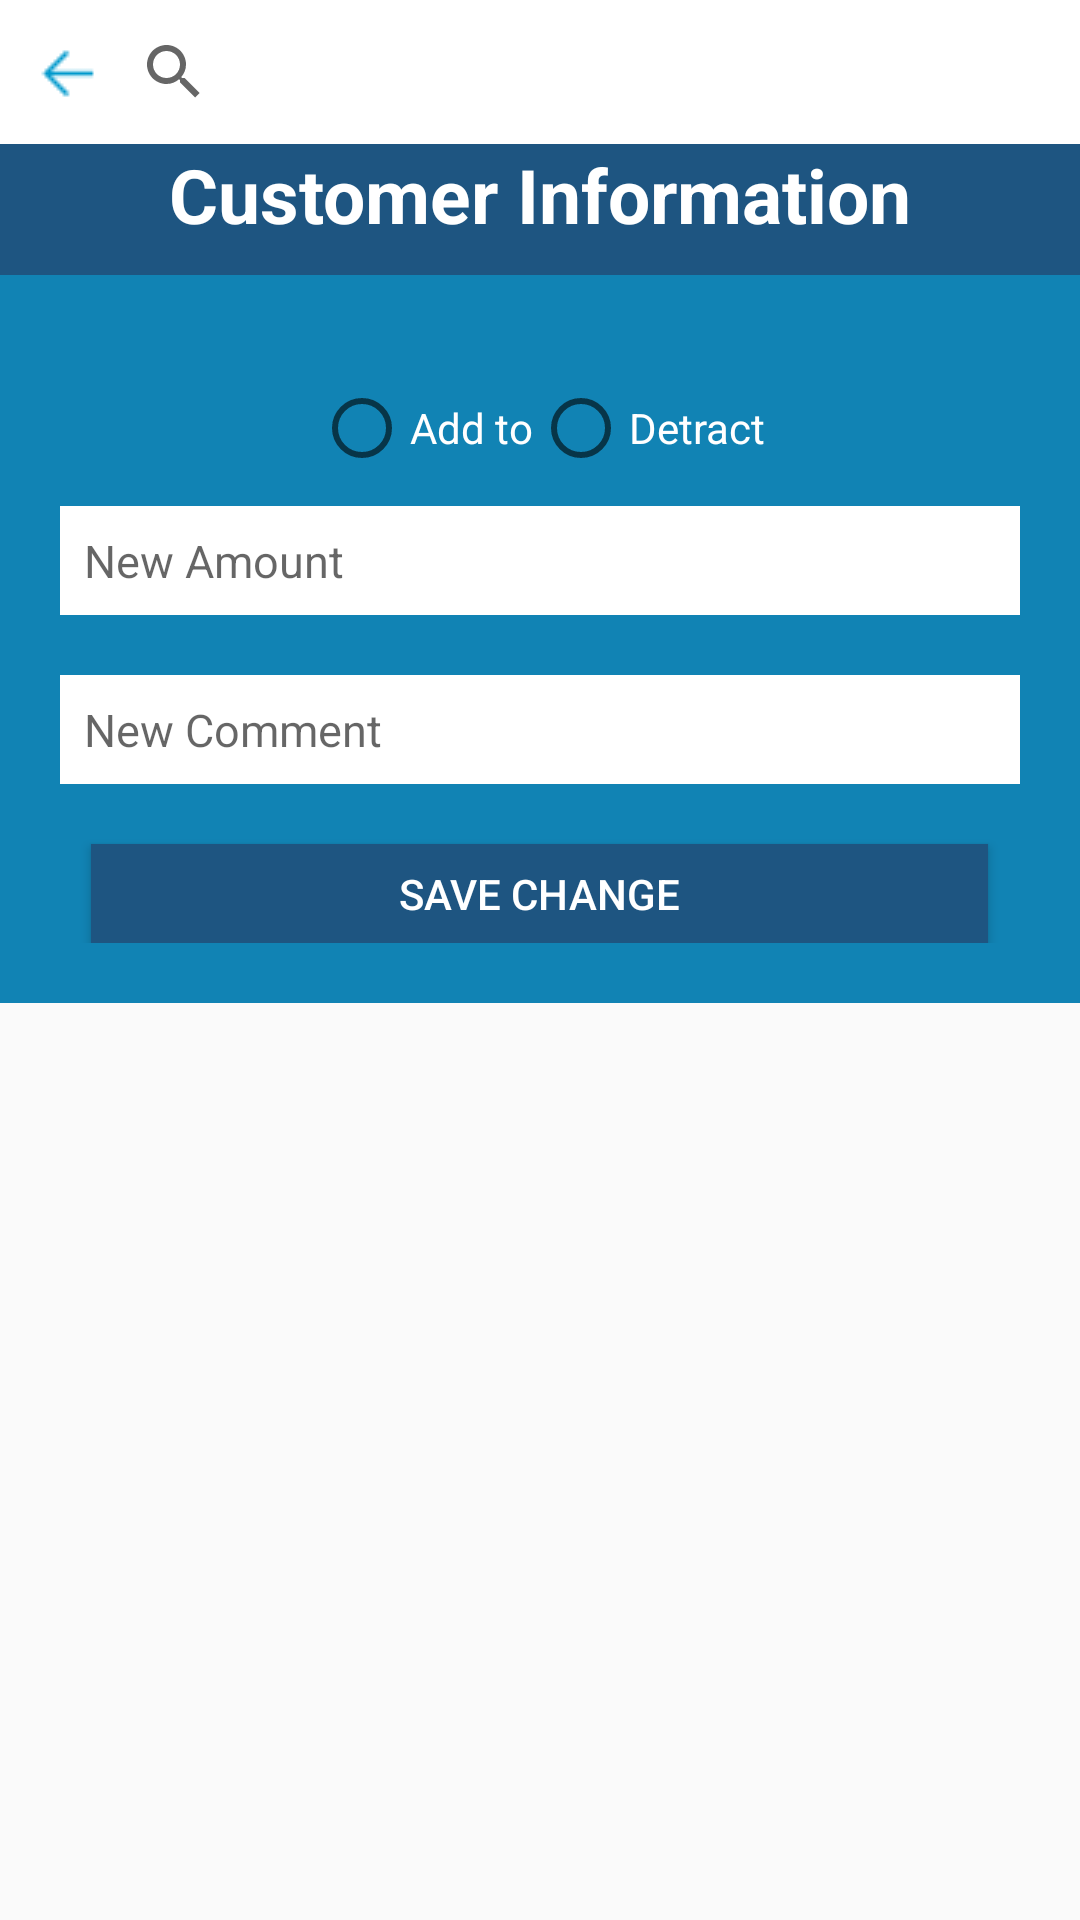

Icons on this 1080px×1920px Android screen, each with the point to tap as (x,y):
bluearrows: (67,73)
